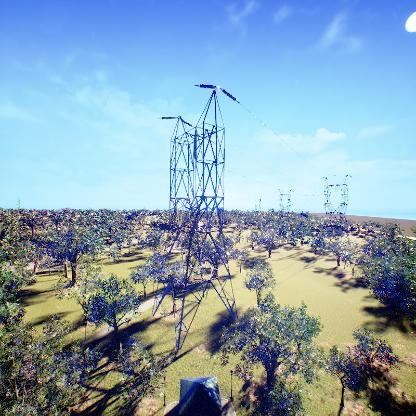tower: (133, 79, 257, 367)
